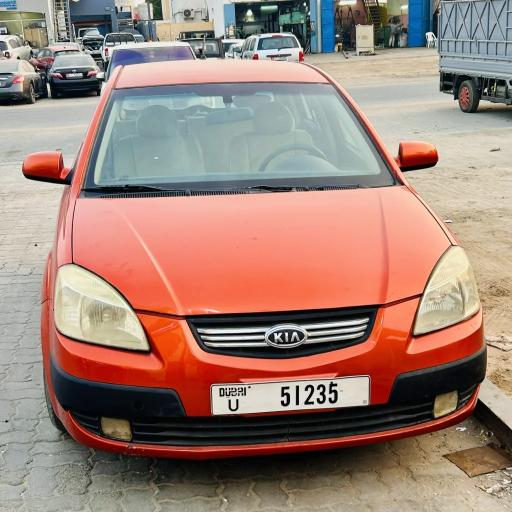license-plates: (211, 375, 370, 416), (270, 56, 287, 61), (66, 73, 83, 77)
